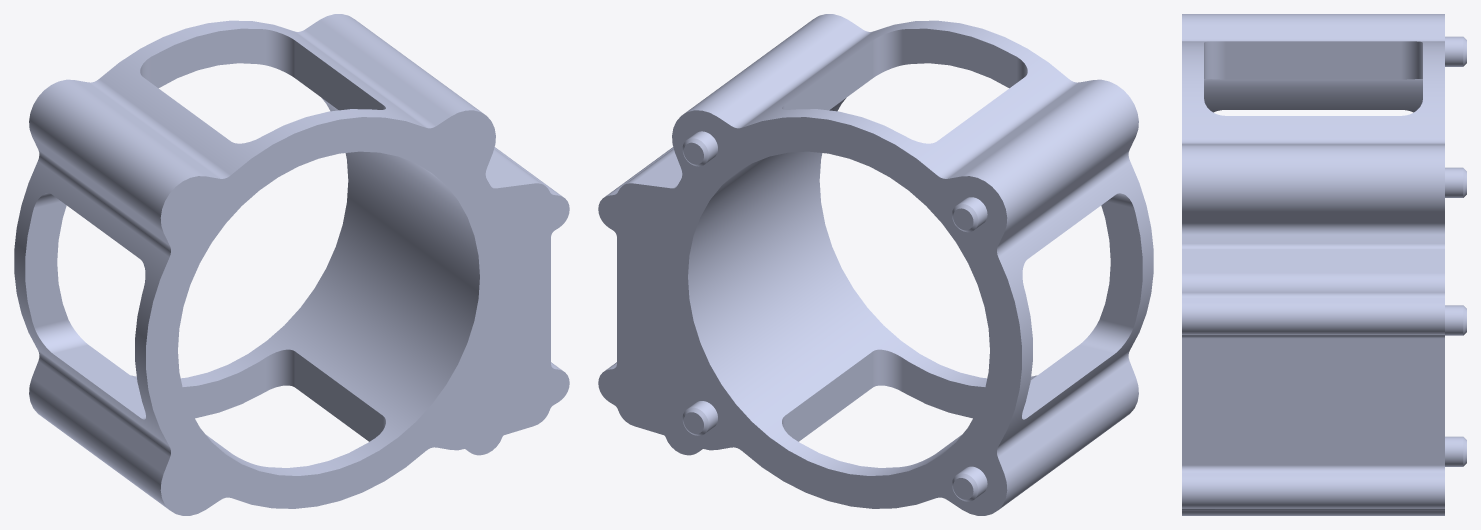
The model's file is Head_Stand.glb.
3 views of the same model, side by side, from view 1: azimuth 30°, elevation 25°; view 2: azimuth 150°, elevation 25°; view 3: azimuth 270°, elevation 25° (orthographic).
Parts seen in each view (by area): view 1: Head Stand; view 2: Head Stand; view 3: Head Stand.
Boxes of the visible parts, bbox=[...] form: Head Stand: bbox=[14, 14, 569, 515]; Head Stand: bbox=[598, 14, 1153, 515]; Head Stand: bbox=[1182, 14, 1466, 515].
Size of the model in its own units: 0.1415 by 0.1218 by 0.0826.
